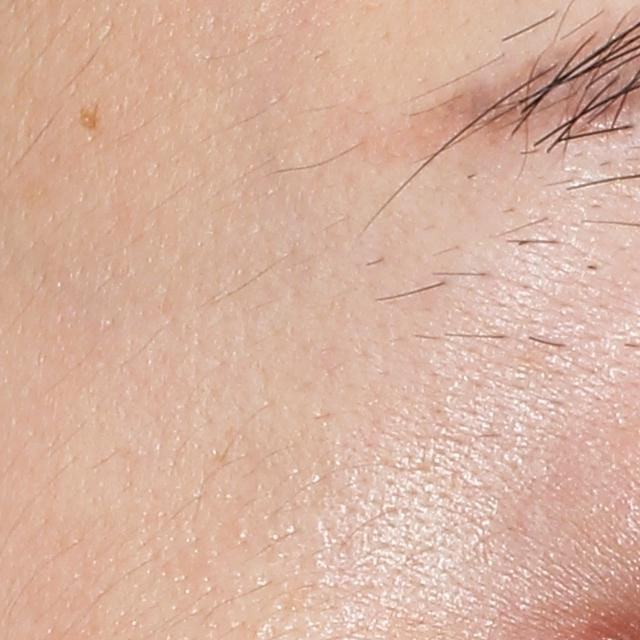melasma: (76, 100, 100, 131)
